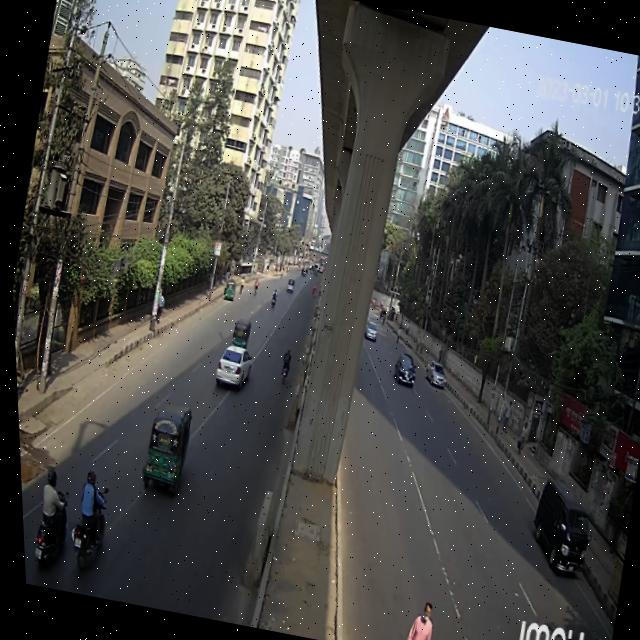cng: (133, 402, 197, 506), (219, 309, 252, 366), (213, 268, 240, 316)
